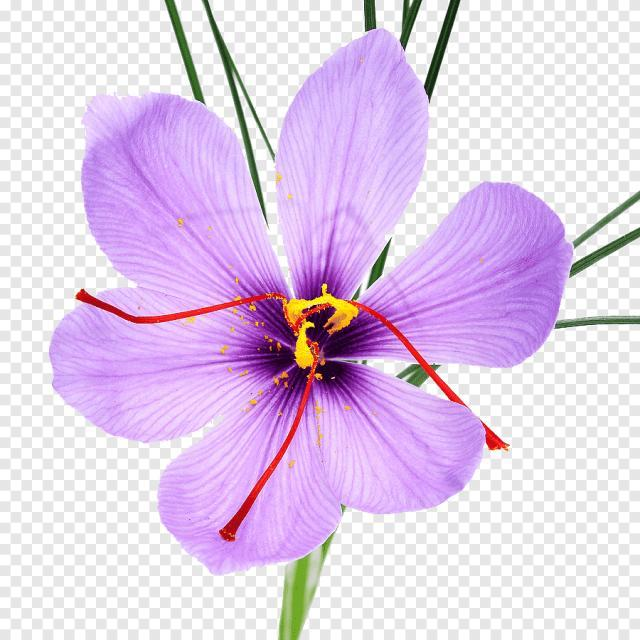Flower: (135, 160, 470, 518)
stigma: (354, 288, 516, 454), (216, 365, 315, 541), (73, 284, 286, 323)
